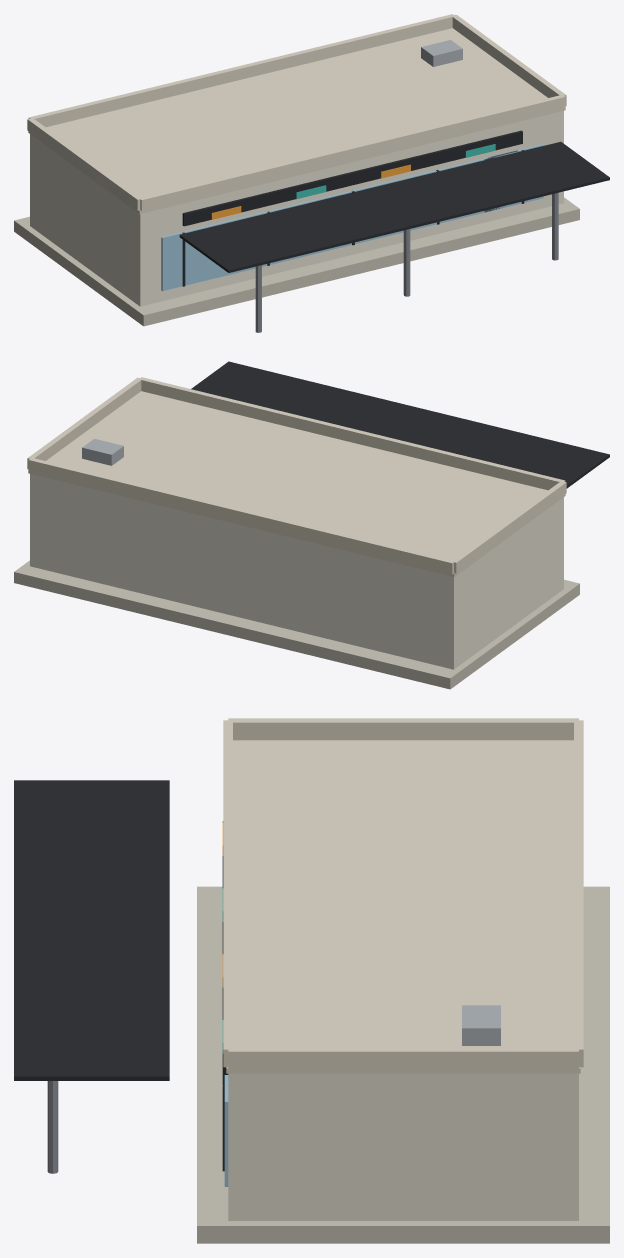
File: building.bus-station.glb
The picture shows the model from 3 angles, top to bottom: view 1: azimuth 30°, elevation 25°; view 2: azimuth 150°, elevation 25°; view 3: azimuth 270°, elevation 25°; orthographic projection. The views are drawn at different scales.
Visible parts, largest first — view 1: building.bus-station; view 2: building.bus-station; view 3: building.bus-station.
Part boxes in pixels (left/top/right/bottom): building.bus-station: left=14, top=14, right=609, bottom=332; building.bus-station: left=14, top=361, right=609, bottom=689; building.bus-station: left=14, top=718, right=609, bottom=1243.
Size of the model in its own units: 20.6 by 5.35 by 15.3.
